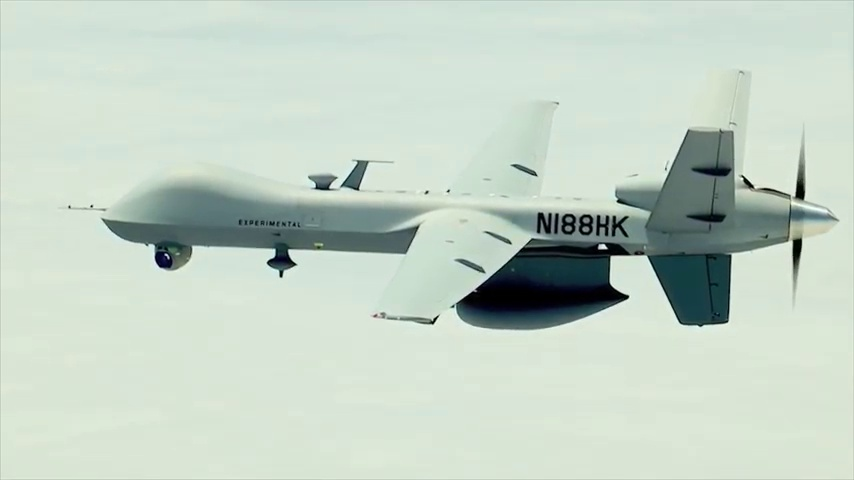military drone: (56, 68, 840, 331)
